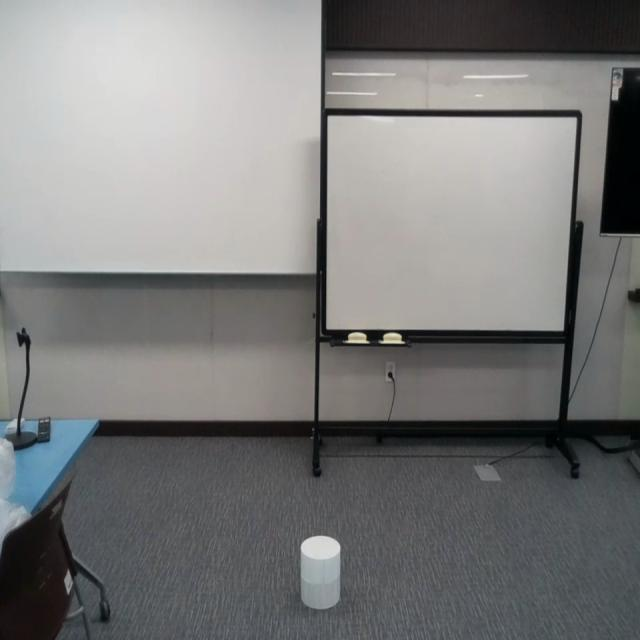cylinder: (300, 535, 341, 610)
